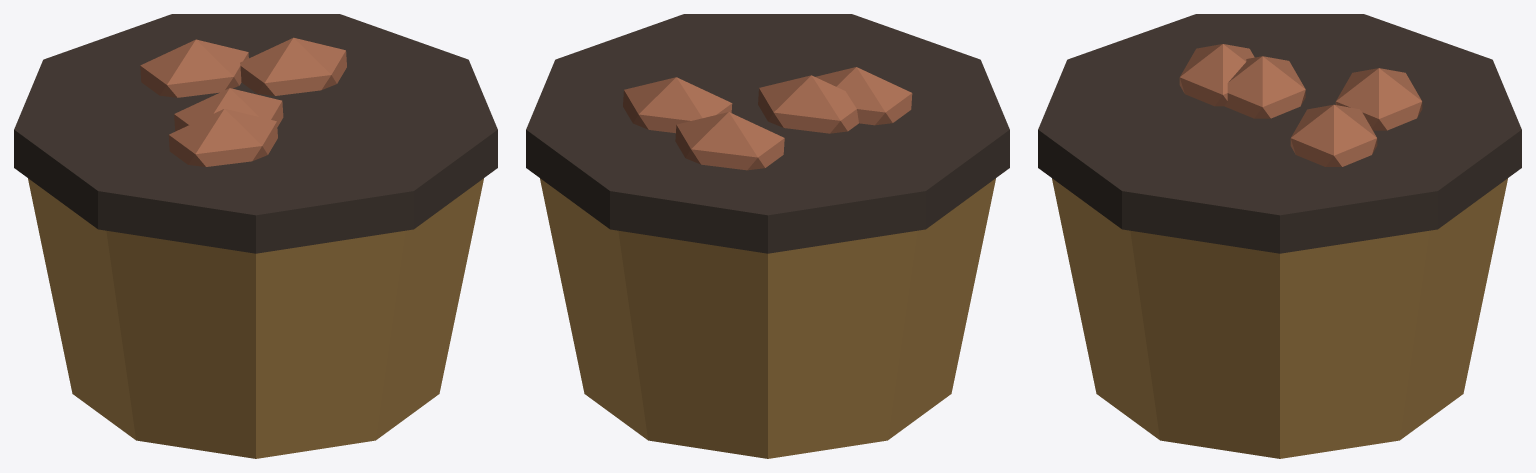
File: basket.glb
The picture shows the model from 3 angles, left to right: view 1: azimuth 30°, elevation 25°; view 2: azimuth 150°, elevation 25°; view 3: azimuth 270°, elevation 25°; orthographic projection.
Parts seen in each view (by area): view 1: woven basket, basket rim, gathered root.001, gathered root.002, gathered root, gathered root.003; view 2: woven basket, basket rim, gathered root, gathered root.003, gathered root.002, gathered root.001; view 3: woven basket, basket rim, gathered root.002, gathered root.003, gathered root, gathered root.001.
Part boxes in pixels (bbox=[...]): woven basket: bbox=[28, 178, 483, 458]; basket rim: bbox=[14, 14, 497, 253]; gathered root.001: bbox=[168, 108, 277, 166]; gathered root.002: bbox=[240, 37, 346, 95]; gathered root: bbox=[140, 39, 248, 97]; gathered root.003: bbox=[174, 88, 283, 130]; woven basket: bbox=[540, 178, 995, 458]; basket rim: bbox=[526, 14, 1009, 253]; gathered root: bbox=[675, 112, 784, 170]; gathered root.003: bbox=[758, 75, 858, 133]; gathered root.002: bbox=[623, 77, 732, 133]; gathered root.001: bbox=[815, 67, 912, 125]; woven basket: bbox=[1052, 178, 1507, 458]; basket rim: bbox=[1038, 14, 1521, 253]; gathered root.002: bbox=[1290, 104, 1377, 166]; gathered root.003: bbox=[1224, 56, 1305, 118]; gathered root: bbox=[1335, 68, 1422, 130]; gathered root.001: bbox=[1179, 44, 1254, 106].
Bounding box in the file's own units: 0.2813 × 0.2 × 0.2856.
